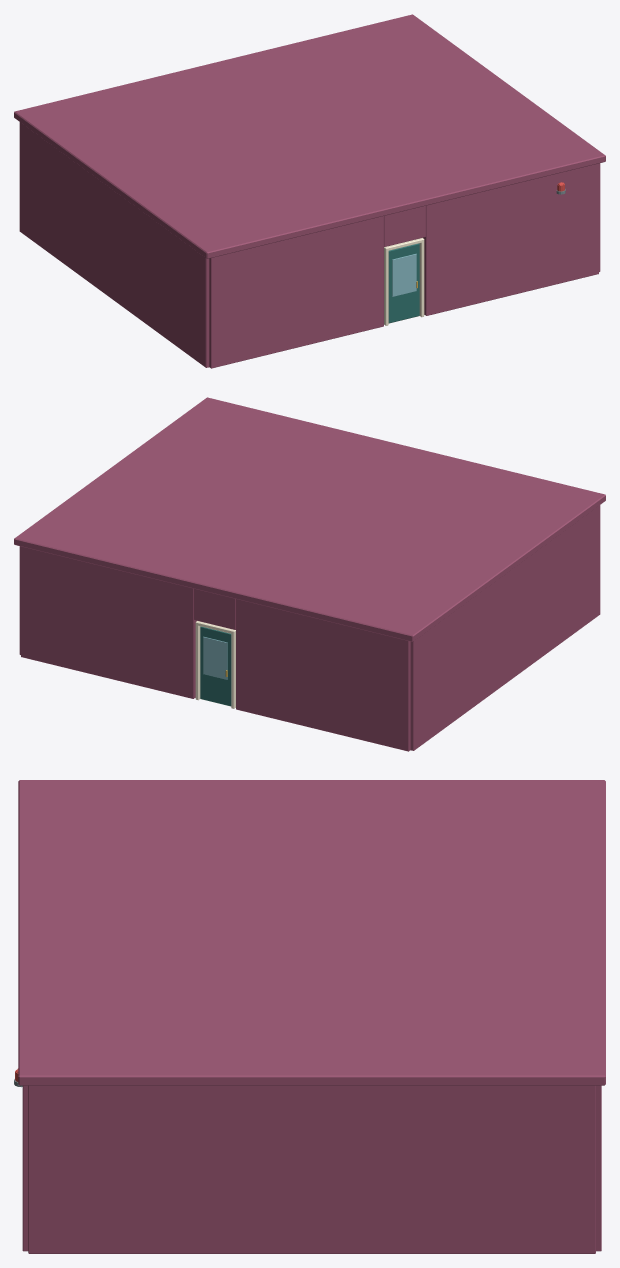
Rendered from Interior_ClothingStore.fbx.
The picture shows the model from 3 angles, top to bottom: view 1: azimuth 30°, elevation 25°; view 2: azimuth 150°, elevation 25°; view 3: azimuth 270°, elevation 25°; orthographic projection. The views are drawn at different scales.
Parts seen in each view (by area): view 1: Roof_Removable.005, WallLeft.005, WallSegment.020, WallSegment.021, Entrance_Door.006, DoorHeader.010, Entrance_Glass.006; view 2: Roof_Removable.005, WallLeft.005, WallSegment.022, WallSegment.023, RearExit_Door.006, DoorHeader.011, RearExit_Glass.006; view 3: Roof_Removable.005, WallRight.005, WallSegment.021, WallSegment.023.
Boxes of the visible parts, x1,y1,x2,y2 form: Roof_Removable.005: [14, 14, 605, 258]; WallLeft.005: [19, 122, 209, 367]; WallSegment.020: [209, 216, 383, 368]; WallSegment.021: [423, 163, 598, 315]; Entrance_Door.006: [388, 243, 419, 323]; DoorHeader.010: [384, 205, 425, 246]; Entrance_Glass.006: [392, 253, 416, 296]; Roof_Removable.005: [14, 397, 605, 641]; WallLeft.005: [410, 505, 600, 750]; WallSegment.022: [236, 599, 410, 751]; WallSegment.023: [21, 546, 196, 698]; RearExit_Door.006: [200, 626, 231, 706]; DoorHeader.011: [194, 588, 235, 629]; RearExit_Glass.006: [203, 636, 227, 679]; Roof_Removable.005: [18, 780, 605, 1085]; WallRight.005: [28, 1085, 595, 1253]; WallSegment.021: [22, 1085, 28, 1251]; WallSegment.023: [596, 1085, 601, 1251].
Size of the model in its own units: 12.35 by 3.5 by 10.43.
